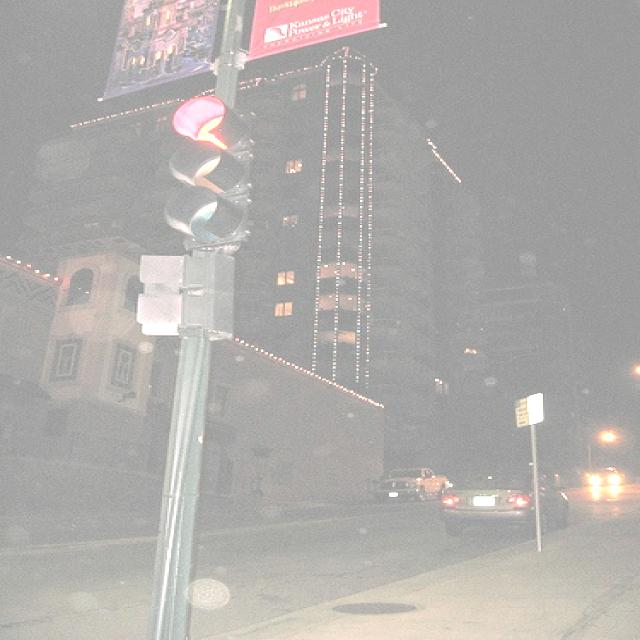Car: (435, 470, 573, 532)
